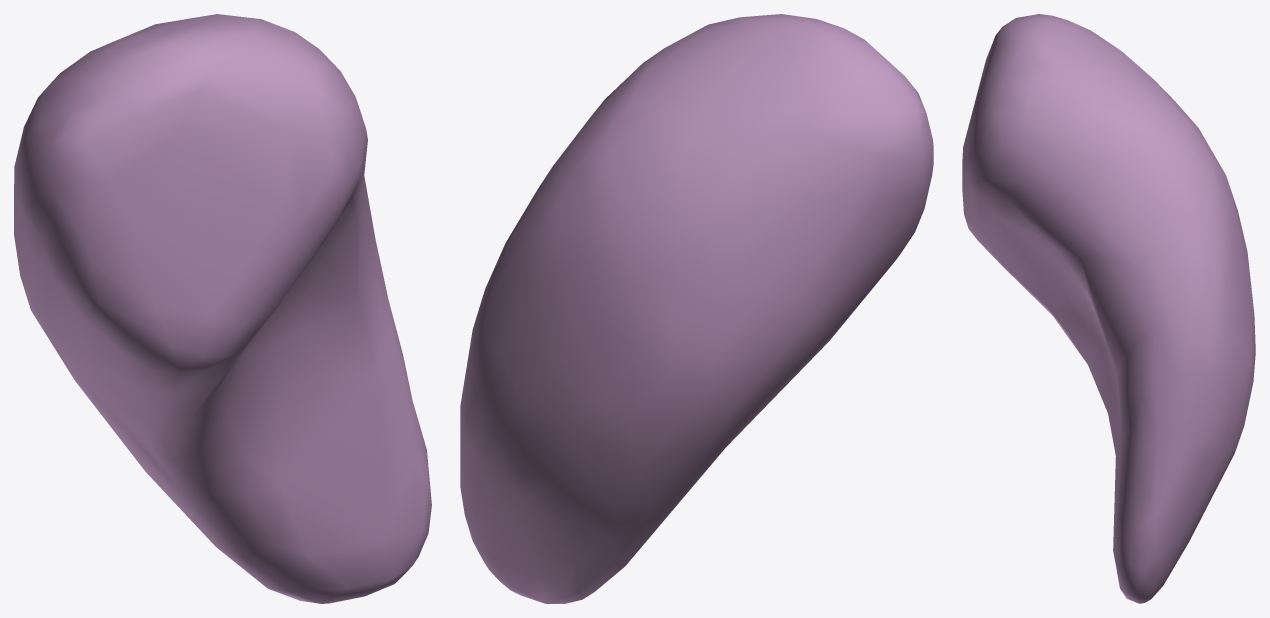
3 views of the same model, side by side, from view 1: azimuth 30°, elevation 25°; view 2: azimuth 150°, elevation 25°; view 3: azimuth 270°, elevation 25° (orthographic). The views are drawn at different scales.
Parts seen in each view (by area): view 1: 左侧外侧膝状体; view 2: 左侧外侧膝状体; view 3: 左侧外侧膝状体.
Boxes of the visible parts, x1,y1,x2,y2 form: 左侧外侧膝状体: [14, 14, 431, 603]; 左侧外侧膝状体: [460, 14, 933, 603]; 左侧外侧膝状体: [962, 14, 1255, 603].
Size of the model in its own units: 0.0121 by 0.0168 by 0.00918.
